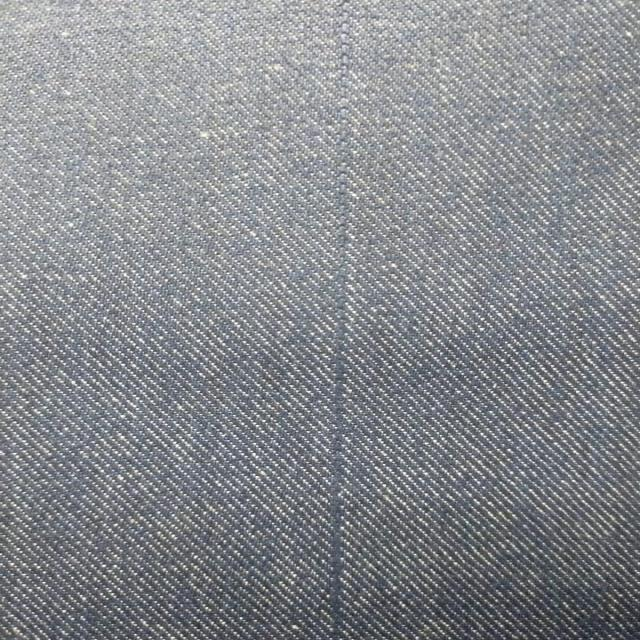Line: (328, 0, 350, 640)
